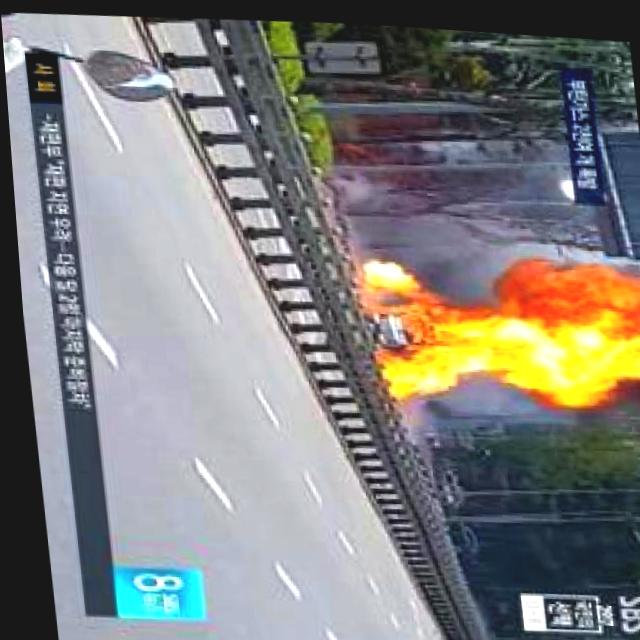helmet: (356, 244, 640, 419)
